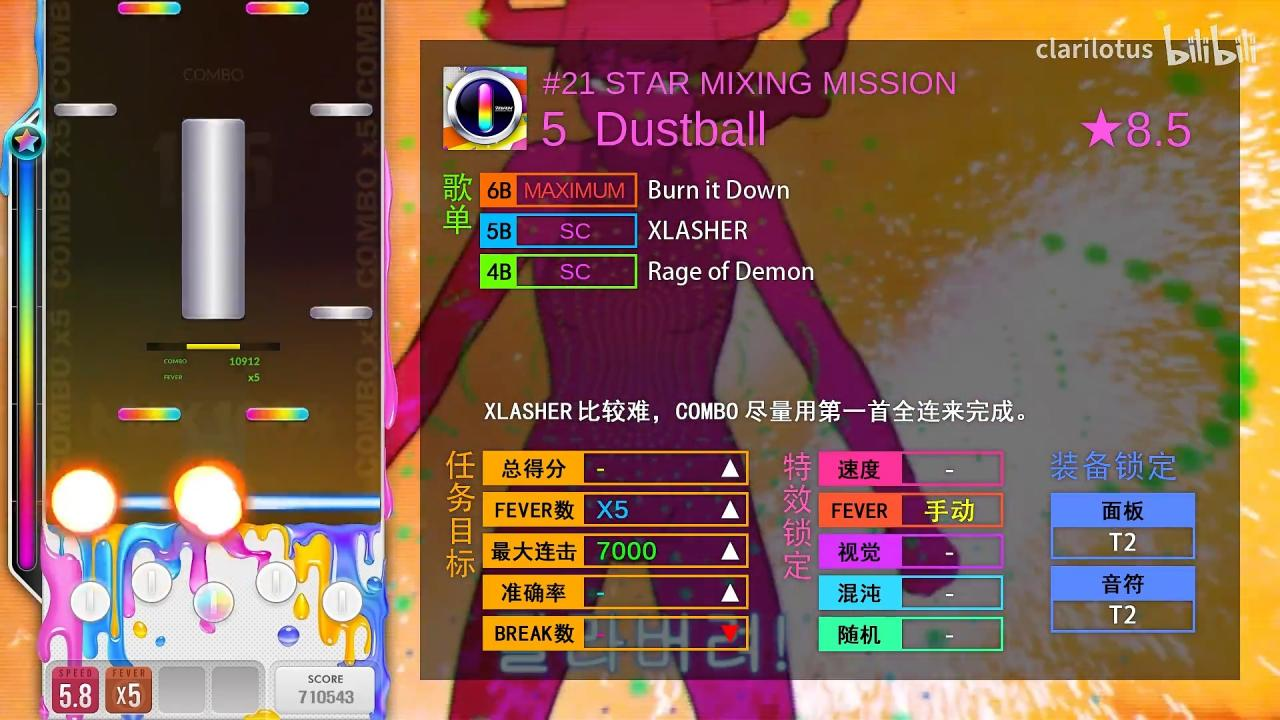hold-end: (182, 118, 245, 130)
hold-start: (182, 308, 246, 319)
note: (245, 407, 309, 422), (246, 1, 309, 16), (118, 408, 181, 423), (310, 306, 374, 320), (310, 103, 372, 117), (53, 103, 117, 116), (118, 2, 181, 15)
